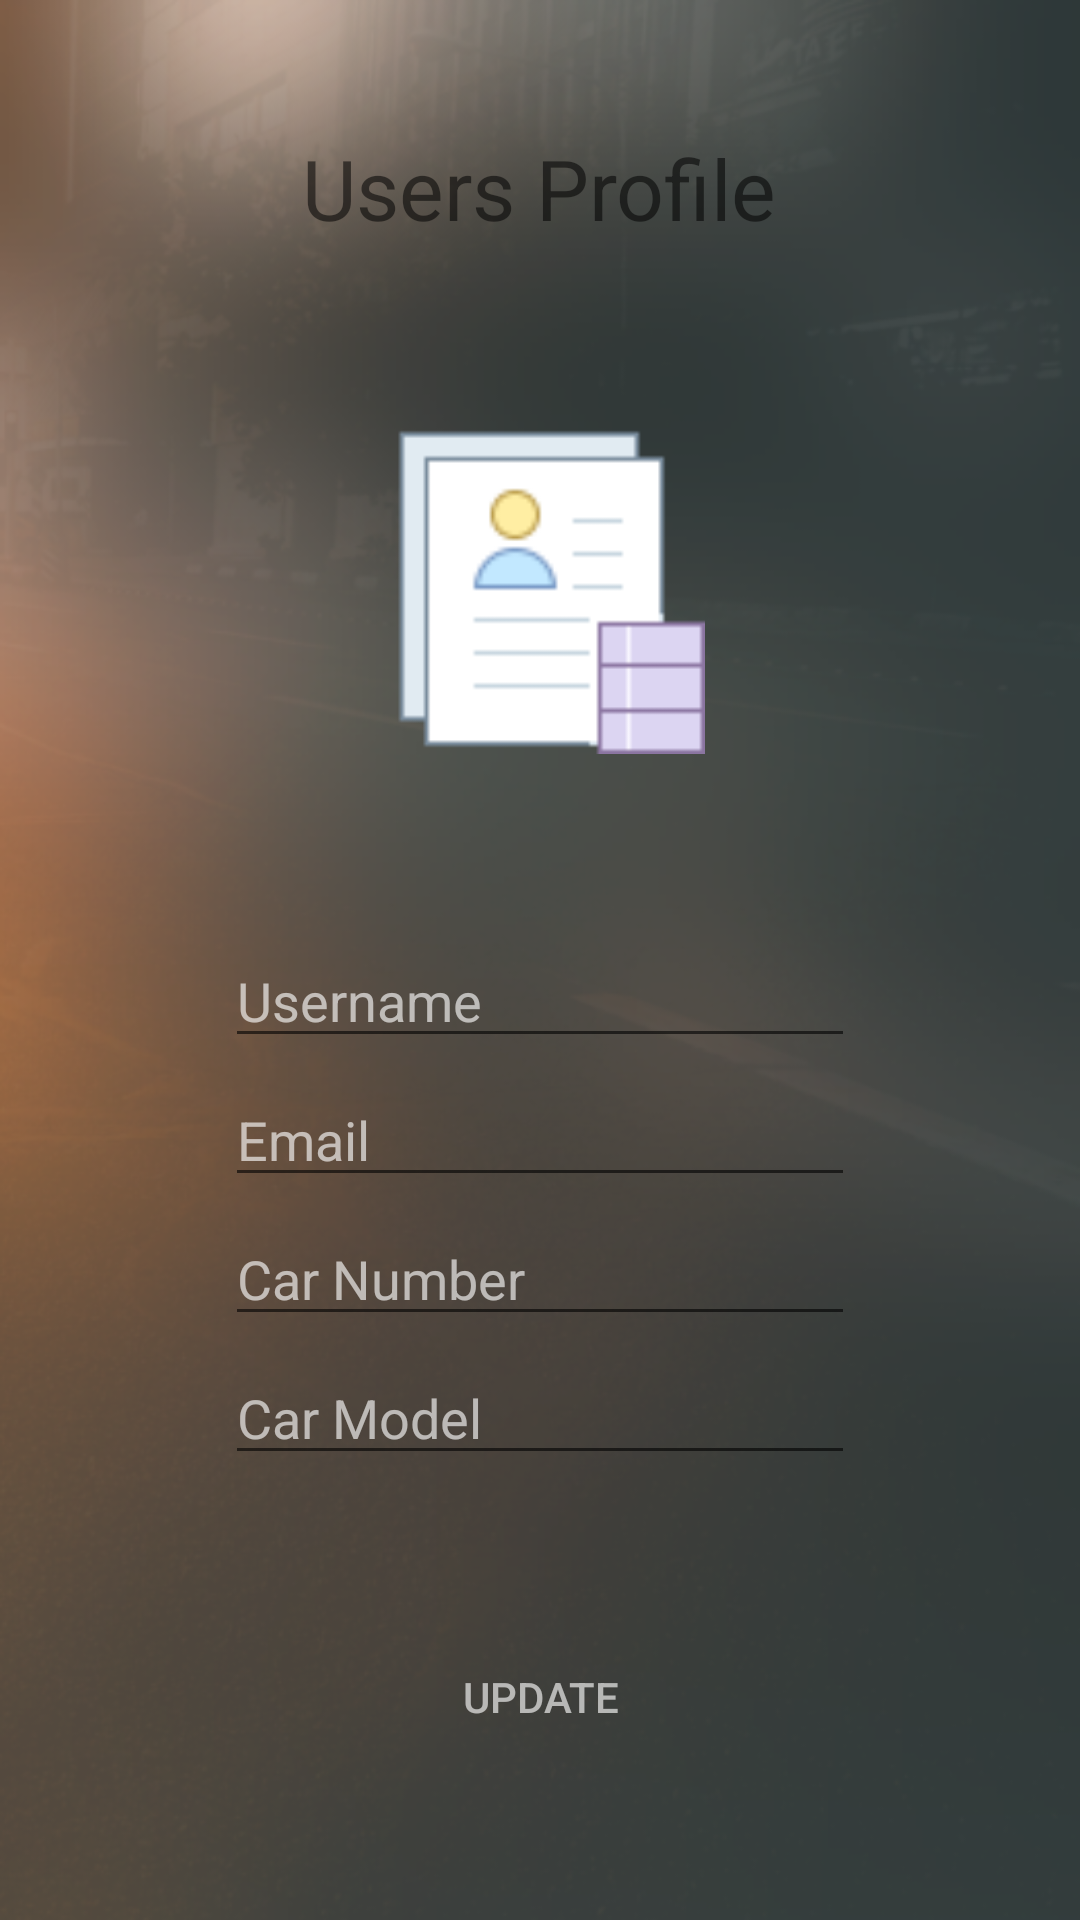

Icons on this 1080 × 1920 Android screen, each with its box as (x1, y1, x2, y2):
profile up: (375, 431, 705, 754)
